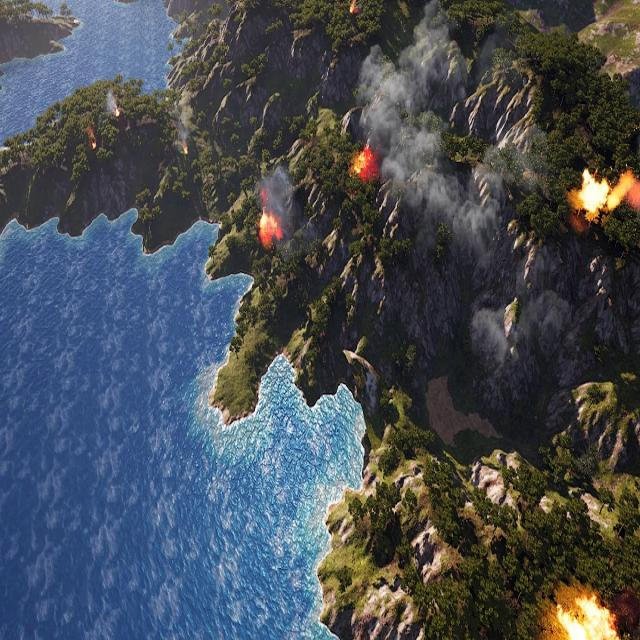fire: (554, 587, 619, 640), (580, 167, 640, 215), (259, 204, 281, 246), (353, 146, 377, 182), (351, 2, 358, 14), (91, 140, 98, 152), (183, 144, 188, 155), (115, 107, 120, 116)
smoke: (356, 0, 510, 362), (257, 166, 310, 252), (105, 89, 118, 116), (178, 122, 188, 146)
